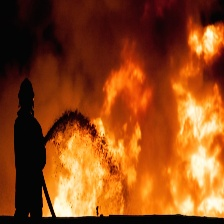fire: (44, 25, 224, 218)
smoke: (7, 1, 209, 81)
